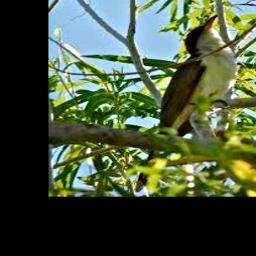Cuckoo: (134, 15, 237, 193)
